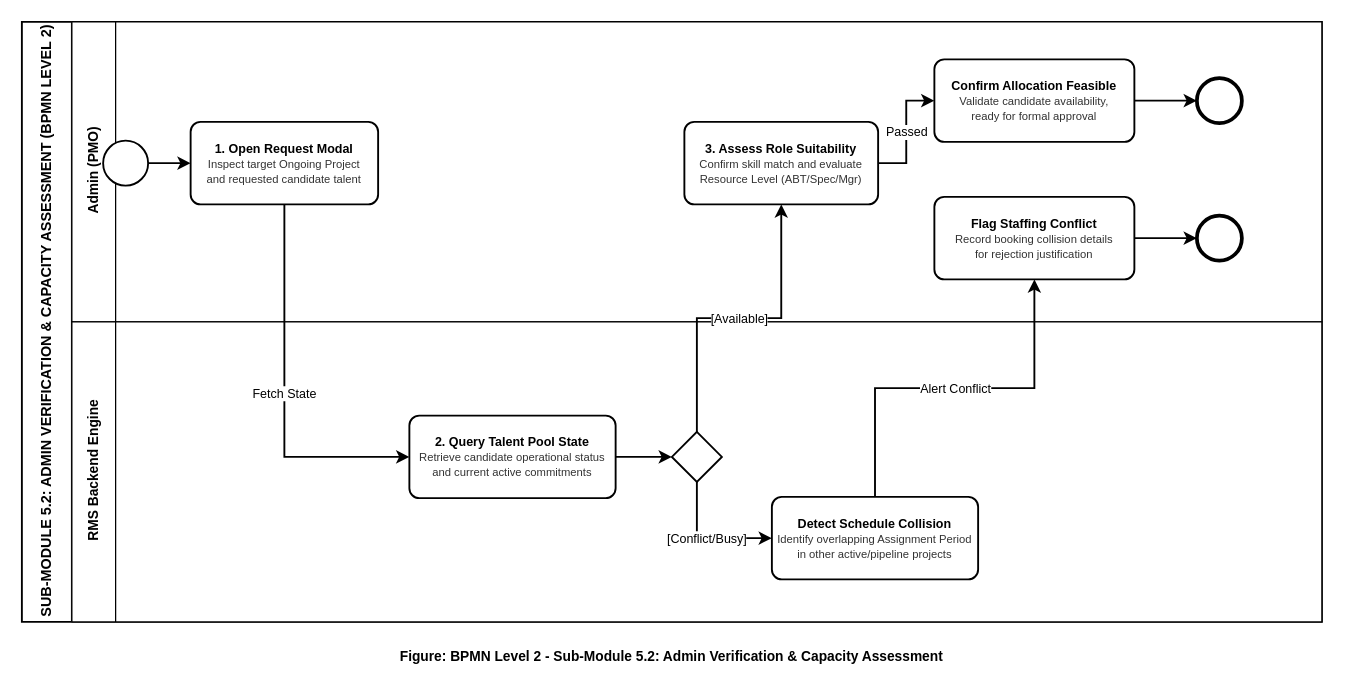
Some shapes in this 1345 by 694 pixel diagram are drawn without their labels. Each missing label, with the centre of its shape:
"Candidate Available & Zero Overlap?" goes at point (696, 456).
"Pending Subsequent Request in Queue" goes at point (125, 162).
"Proceed to Approval Flow" goes at point (1218, 100).
"Proceed to Rejection Flow" goes at point (1218, 237).
